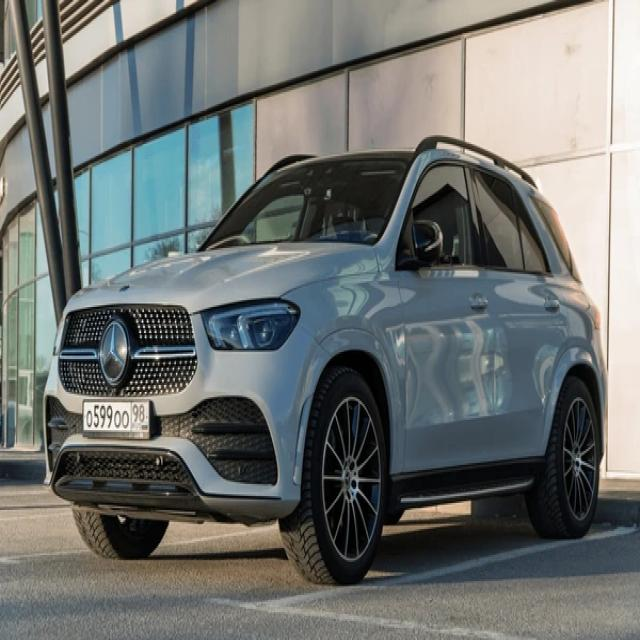mercedes: (97, 323, 131, 386)
